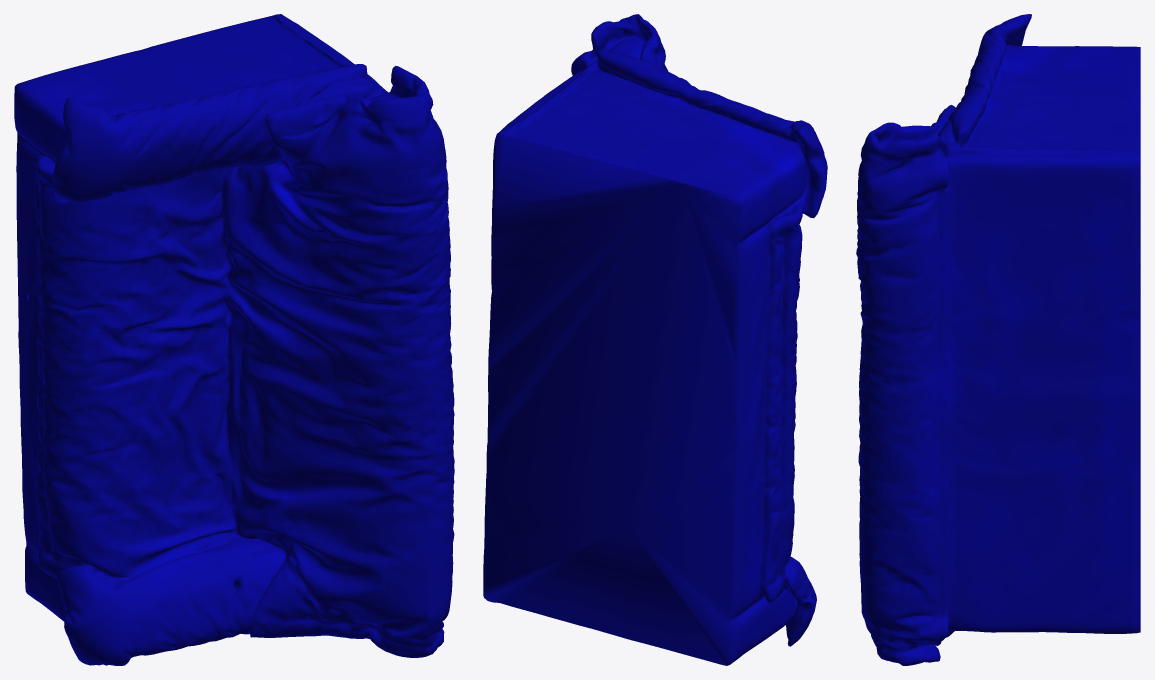
Rendered from sofa_error.glb.
The picture shows the model from 3 angles, left to right: view 1: azimuth 30°, elevation 25°; view 2: azimuth 150°, elevation 25°; view 3: azimuth 270°, elevation 25°; orthographic projection. The views are drawn at different scales.
Parts seen in each view (by area): view 1: Sofa.obj; view 2: Sofa.obj; view 3: Sofa.obj.
Boxes of the visible parts, x1,y1,x2,y2 form: Sofa.obj: (14, 14, 454, 665); Sofa.obj: (483, 14, 827, 665); Sofa.obj: (856, 14, 1140, 665).
Size of the model in its own units: 1 by 1.65 by 0.8133.
